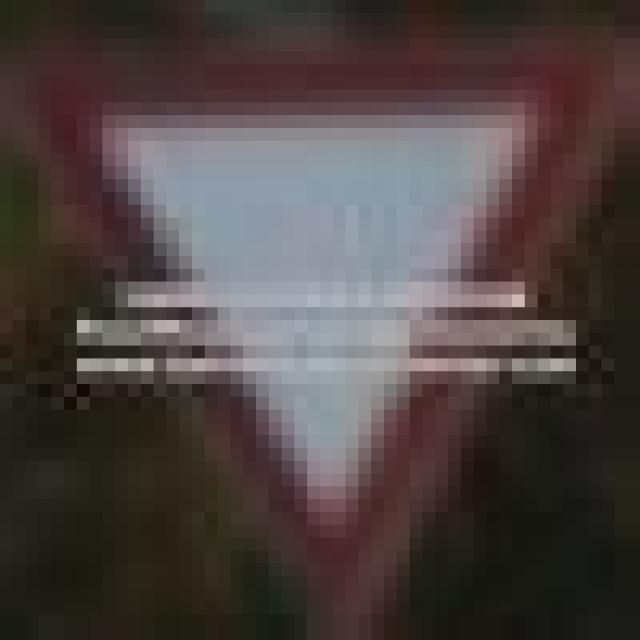GIVE_WAY: (0, 38, 627, 614)
